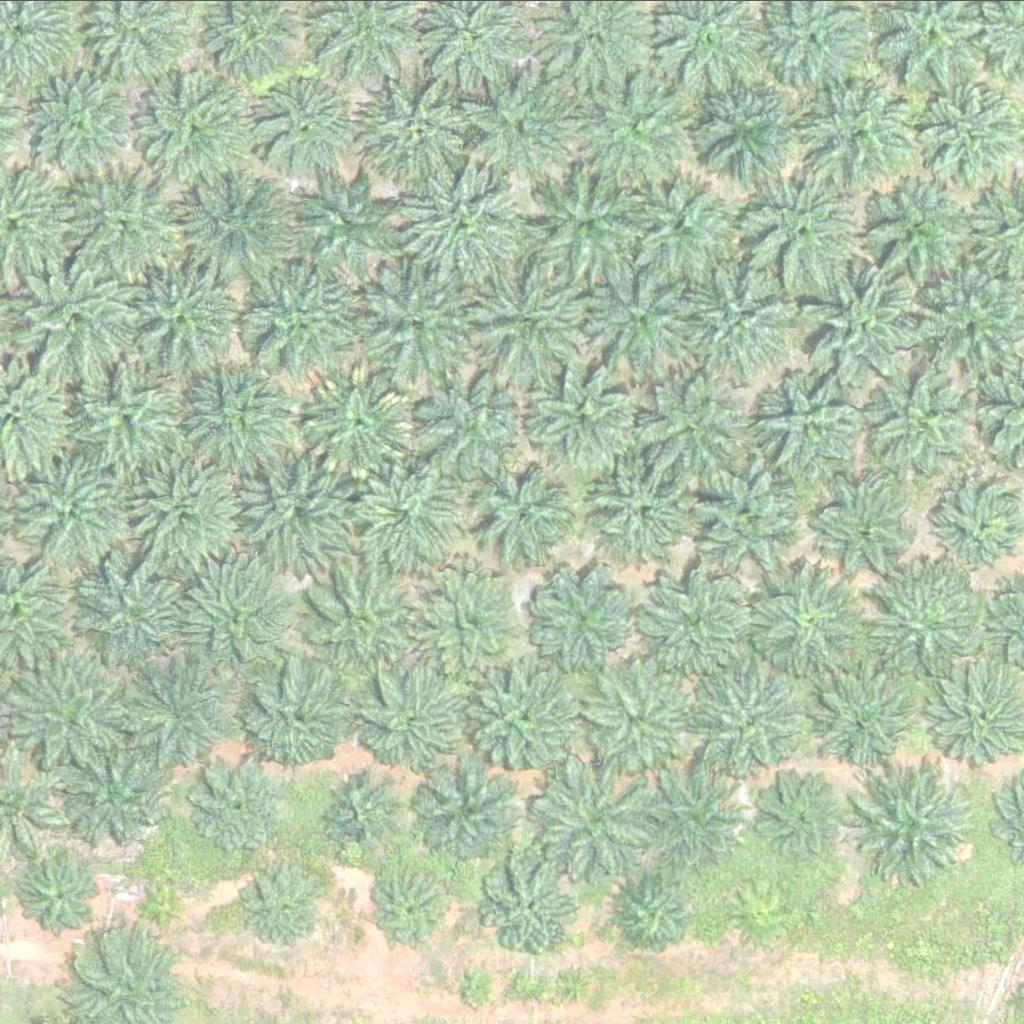Kelapa_Sawit: (17, 58, 143, 183), (354, 70, 480, 195), (465, 62, 591, 187), (400, 166, 526, 291), (170, 162, 296, 287), (63, 166, 189, 291), (13, 254, 139, 379), (116, 258, 242, 383), (235, 258, 361, 383), (355, 260, 481, 385), (470, 270, 596, 395), (5, 649, 131, 774), (529, 760, 655, 885), (849, 767, 975, 892), (863, 357, 989, 482), (578, 254, 704, 379), (672, 256, 798, 381), (807, 261, 933, 386), (517, 164, 643, 289), (616, 160, 742, 285), (737, 164, 863, 289), (850, 174, 976, 299), (572, 72, 698, 197), (864, 555, 989, 680), (71, 358, 185, 471), (179, 358, 293, 471), (804, 72, 918, 185), (305, 563, 418, 676), (411, 569, 524, 682), (472, 657, 585, 770), (356, 667, 469, 780), (240, 657, 353, 770), (122, 652, 235, 765), (522, 559, 635, 672), (592, 451, 705, 564), (637, 564, 750, 677), (750, 564, 863, 677), (688, 466, 801, 579), (692, 69, 805, 182), (131, 456, 245, 568), (20, 452, 134, 564), (639, 373, 753, 485), (144, 71, 257, 183), (301, 365, 414, 477), (417, 366, 530, 478), (470, 459, 583, 571), (346, 459, 459, 571), (244, 452, 357, 564), (78, 560, 191, 672), (179, 561, 292, 673), (61, 733, 174, 845), (526, 358, 639, 470), (588, 660, 701, 772), (639, 759, 752, 871), (695, 664, 808, 776), (752, 371, 865, 483), (253, 75, 354, 175), (190, 752, 291, 852), (421, 760, 522, 860), (816, 668, 917, 768), (816, 480, 917, 580), (294, 173, 394, 273), (484, 856, 584, 956), (242, 859, 330, 947), (370, 861, 458, 949), (18, 849, 106, 937), (753, 772, 841, 859), (618, 875, 694, 950), (325, 773, 400, 848), (141, 876, 179, 914), (461, 969, 499, 1006)
